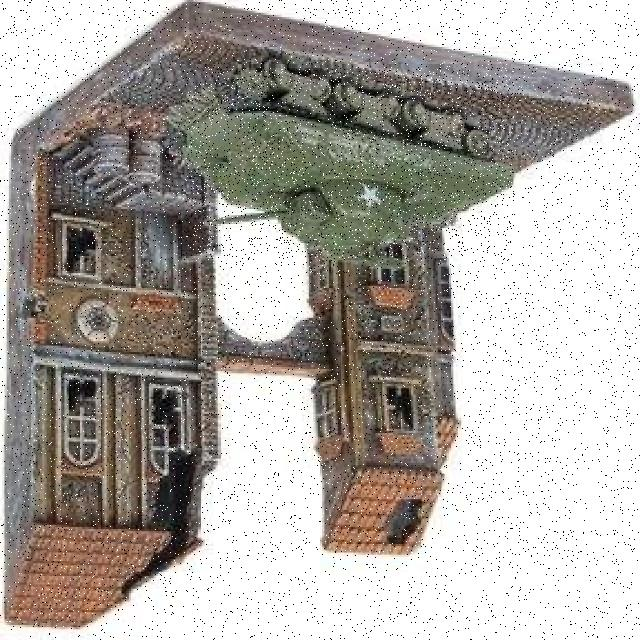MIL_MBT: (186, 67, 514, 257)
